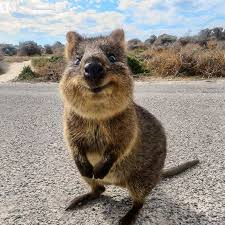quokka: (40, 28, 188, 218)
